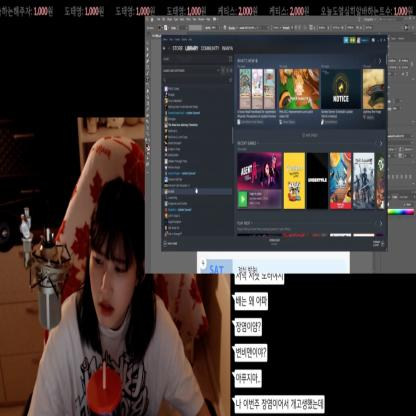streamer: (28, 177, 210, 416)
